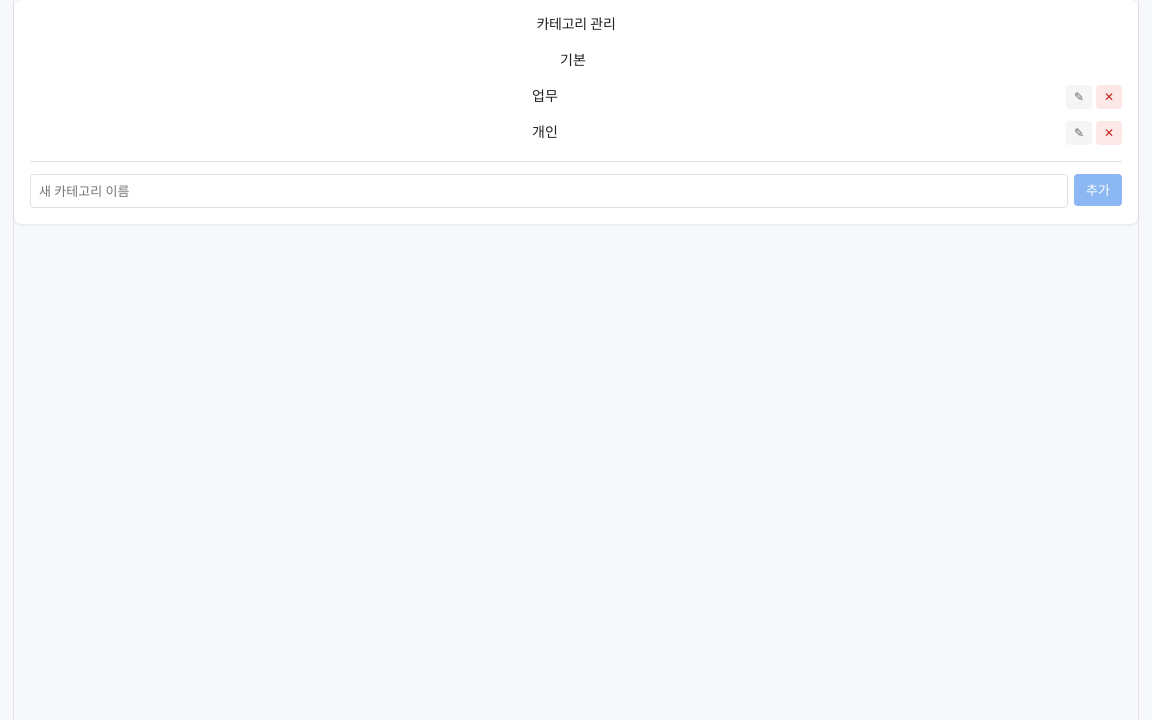
Test case: CategoryManager › 취소 버튼 클릭 시 편집 모드가 종료된다
This screenshot has width=1152, height=720.
Click the button named "업무 수정": [1079, 96] box 1066,84 -> 1092,108
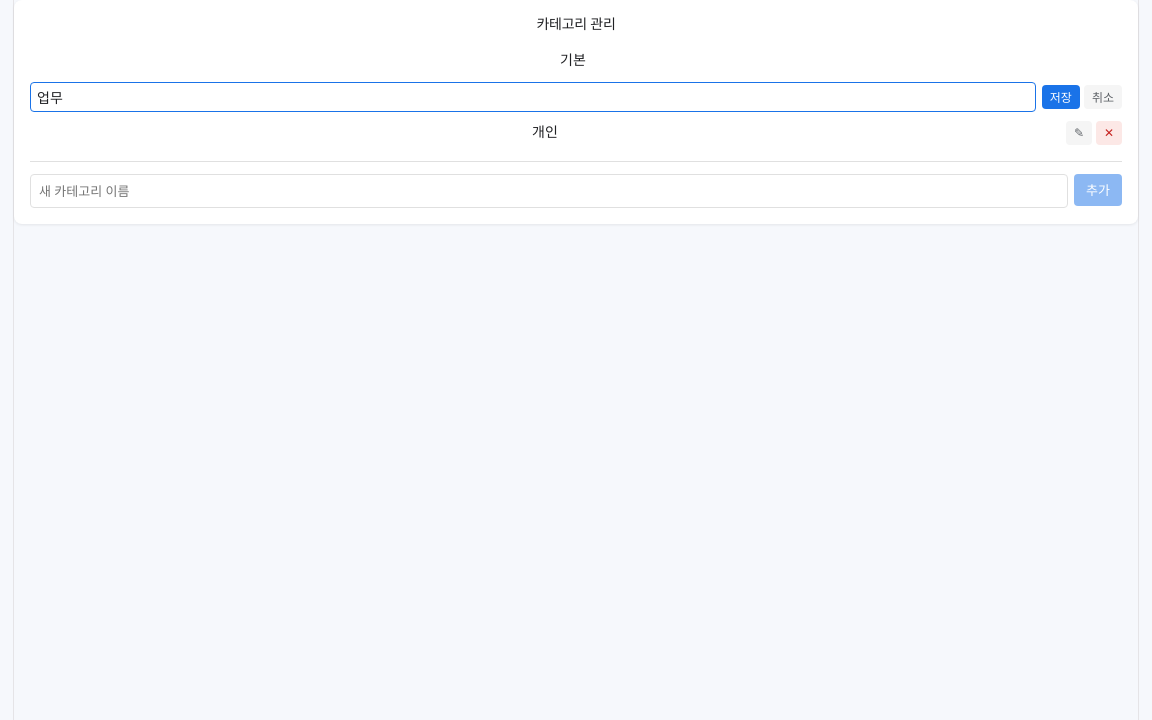
Click the button "취소": [1103, 96] box 1084,84 -> 1122,108
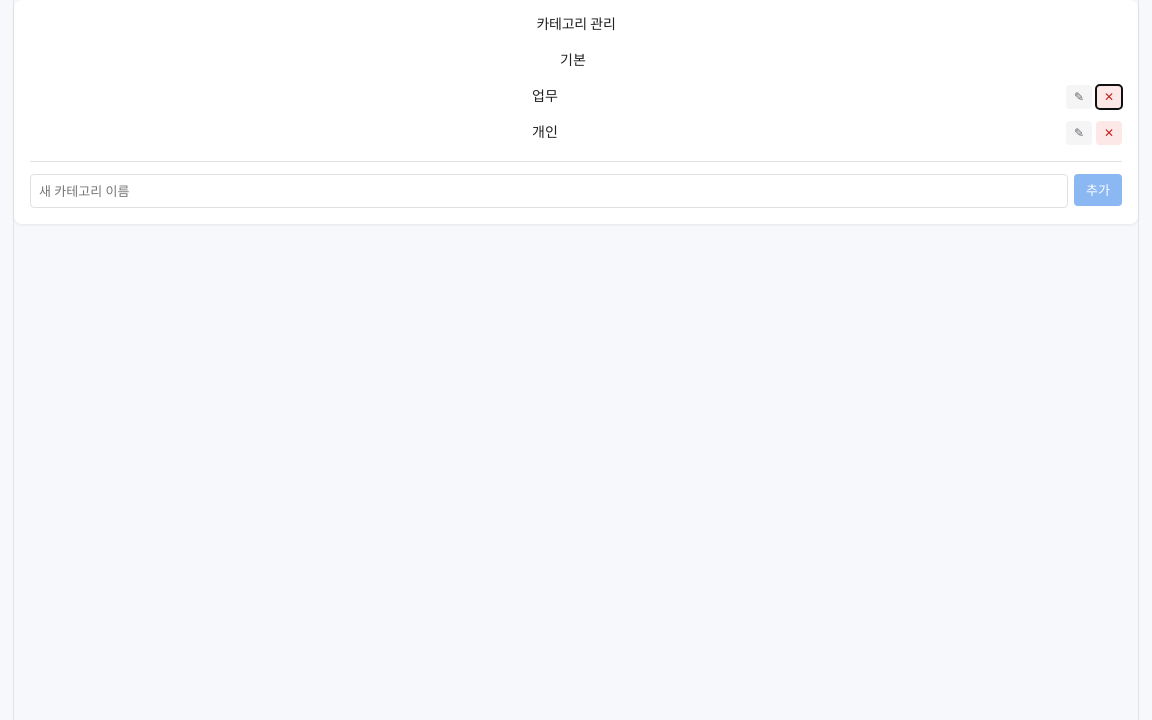
Expected: the button "저장" is gone
